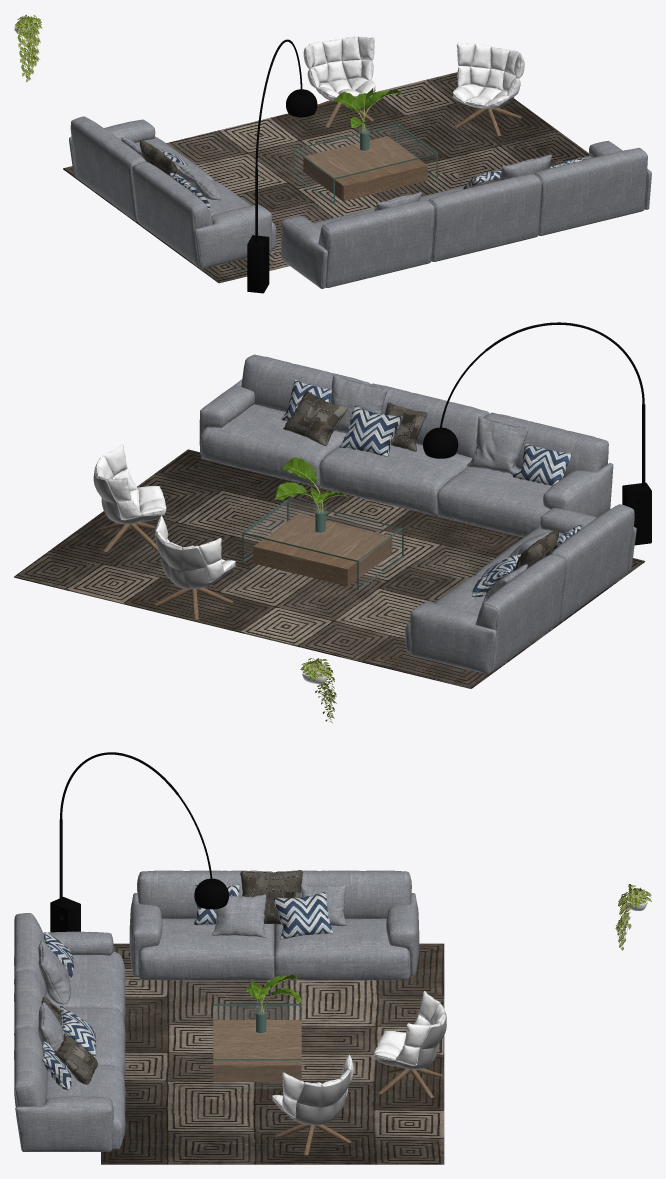
Rendered from living-room-set.glb.
3 renders of one model, top to bottom at view 1: azimuth 30°, elevation 25°; view 2: azimuth 150°, elevation 25°; view 3: azimuth 270°, elevation 25°, orthographic. The views are drawn at different scales.
Visible parts, largest first — view 1: CouchSet_Material_1_0, CouchSet_texturatapete_sala_asdfasdf0as5f1065r10e51r0510e51e, CouchSet_White1_0, CouchSet_Wood049_0, CouchSet_Material_2_0, CouchSet_Material_5_0, CouchSet_folha_planta_hd_fdsfad0fas65df0a16s50r1e2a01s2df10a, Flower_leaf2_smaller_cleansadfasdfasdfasd_0, CouchSet_Glass_0; view 2: CouchSet_Material_1_0, CouchSet_texturatapete_sala_asdfasdf0as5f1065r10e51r0510e51e, CouchSet_White1_0, CouchSet_Wood049_0, CouchSet_Material_2_0, CouchSet_Material_5_0, CouchSet_folha_planta_hd_fdsfad0fas65df0a16s50r1e2a01s2df10a, CouchSet_Glass_0; view 3: CouchSet_texturatapete_sala_asdfasdf0as5f1065r10e51r0510e51e, CouchSet_Material_1_0, CouchSet_White1_0, CouchSet_Wood049_0, CouchSet_Material_2_0, CouchSet_Material_5_0, CouchSet_Glass_0, CouchSet_folha_planta_hd_fdsfad0fas65df0a16s50r1e2a01s2df10a.
Boxes of the visible parts, <box> form: CouchSet_Material_1_0: <box>69,116,651,288</box>; CouchSet_texturatapete_sala_asdfasdf0as5f1065r10e51r0510e51e: <box>63,72,589,283</box>; CouchSet_White1_0: <box>14,15,524,293</box>; CouchSet_Wood049_0: <box>303,100,521,201</box>; CouchSet_Material_2_0: <box>156,148,585,210</box>; CouchSet_Material_5_0: <box>139,140,563,188</box>; CouchSet_folha_planta_hd_fdsfad0fas65df0a16s50r1e2a01s2df10a: <box>334,88,401,128</box>; Flower_leaf2_smaller_cleansadfasdfasdfasd_0: <box>14,14,41,78</box>; CouchSet_Glass_0: <box>359,125,433,156</box>; CouchSet_Material_1_0: <box>199,354,636,674</box>; CouchSet_texturatapete_sala_asdfasdf0as5f1065r10e51r0510e51e: <box>14,449,644,688</box>; CouchSet_White1_0: <box>93,322,651,722</box>; CouchSet_Wood049_0: <box>99,513,392,620</box>; CouchSet_Material_2_0: <box>281,379,581,597</box>; CouchSet_Material_5_0: <box>283,391,558,570</box>; CouchSet_folha_planta_hd_fdsfad0fas65df0a16s50r1e2a01s2df10a: <box>275,457,347,503</box>; CouchSet_Glass_0: <box>247,504,325,537</box>; CouchSet_texturatapete_sala_asdfasdf0as5f1065r10e51r0510e51e: <box>101,943,444,1164</box>; CouchSet_Material_1_0: <box>14,870,419,1151</box>; CouchSet_White1_0: <box>50,752,647,1125</box>; CouchSet_Wood049_0: <box>213,1020,443,1155</box>; CouchSet_Material_2_0: <box>42,884,333,1090</box>; CouchSet_Material_5_0: <box>41,870,302,1084</box>; CouchSet_Glass_0: <box>214,1005,300,1033</box>; CouchSet_folha_planta_hd_fdsfad0fas65df0a16s50r1e2a01s2df10a: <box>245,974,301,1002</box>.
Size of the model in its own units: 4.48 by 2.11 by 5.36.
Materials: 9 (9 with a texture image).
